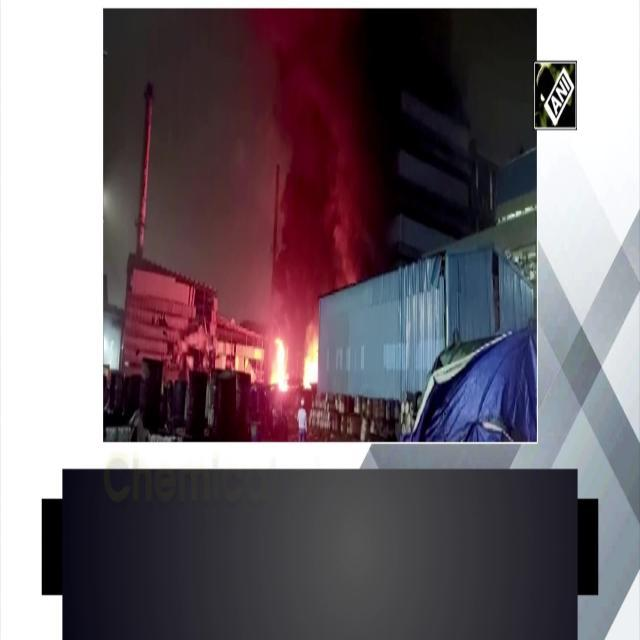Fire: (271, 334, 287, 390)
Smoke: (278, 68, 377, 270)
